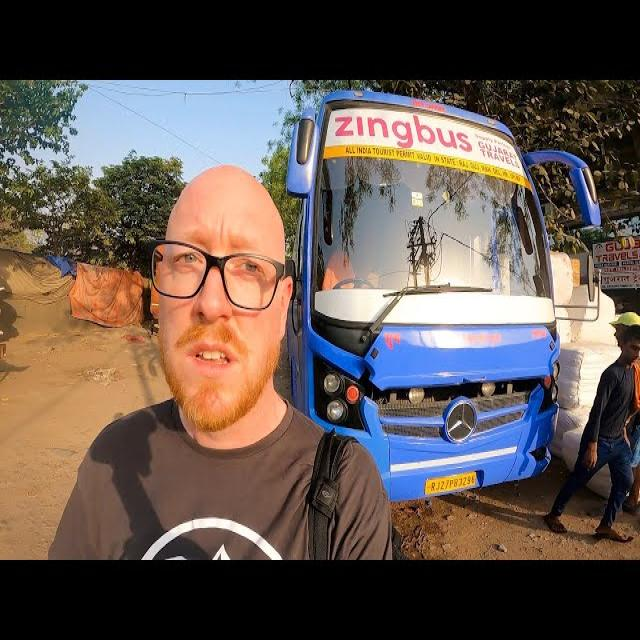bus: (311, 312, 374, 356)
